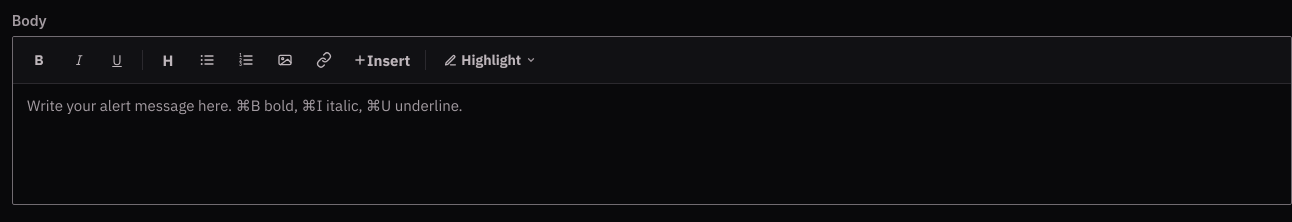
Test: AlertBodyEditor › shows one tooltip for Bold with no native title
This screenshot has width=1292, height=222.
Hover over the button named "Bold" at (39, 60), box x1=22 y1=44 x2=56 y2=76
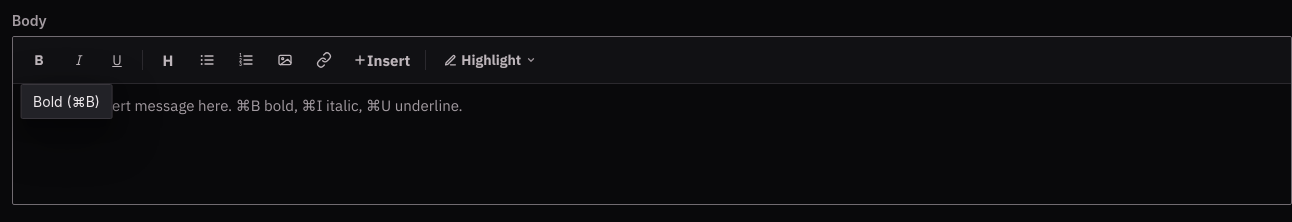
Check: the tooltip "Bold (⌘B)" is shown, box x1=20 y1=84 x2=113 y2=119
